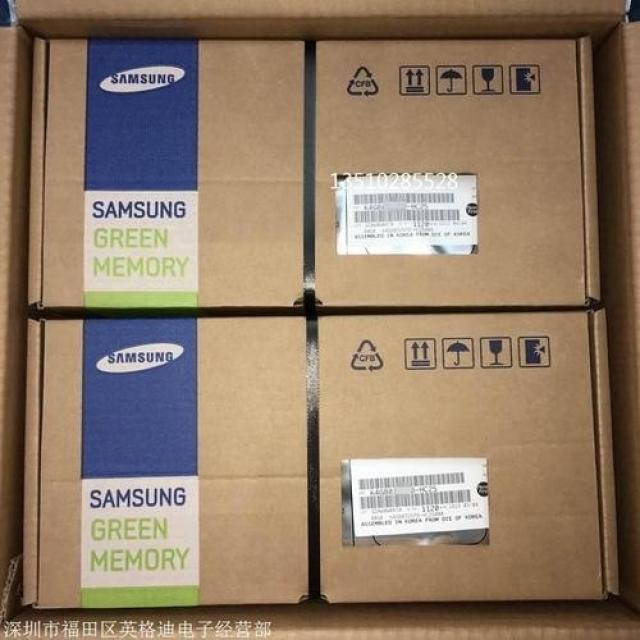box: (20, 37, 618, 609)
